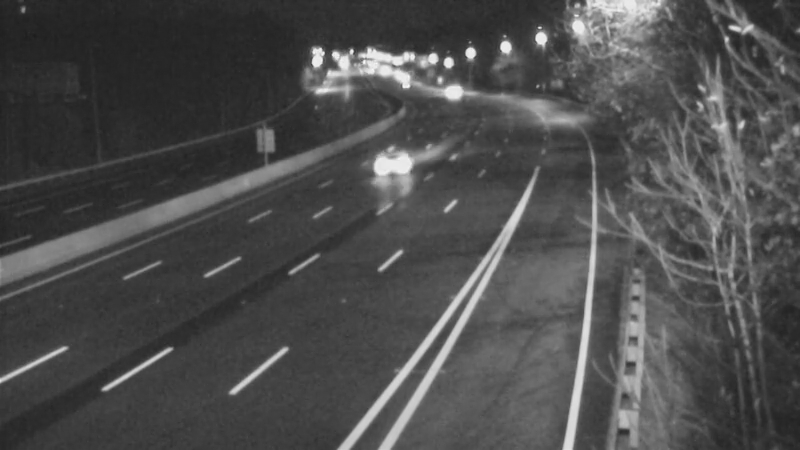vehicle: (348, 126, 428, 206), (430, 69, 480, 119)
